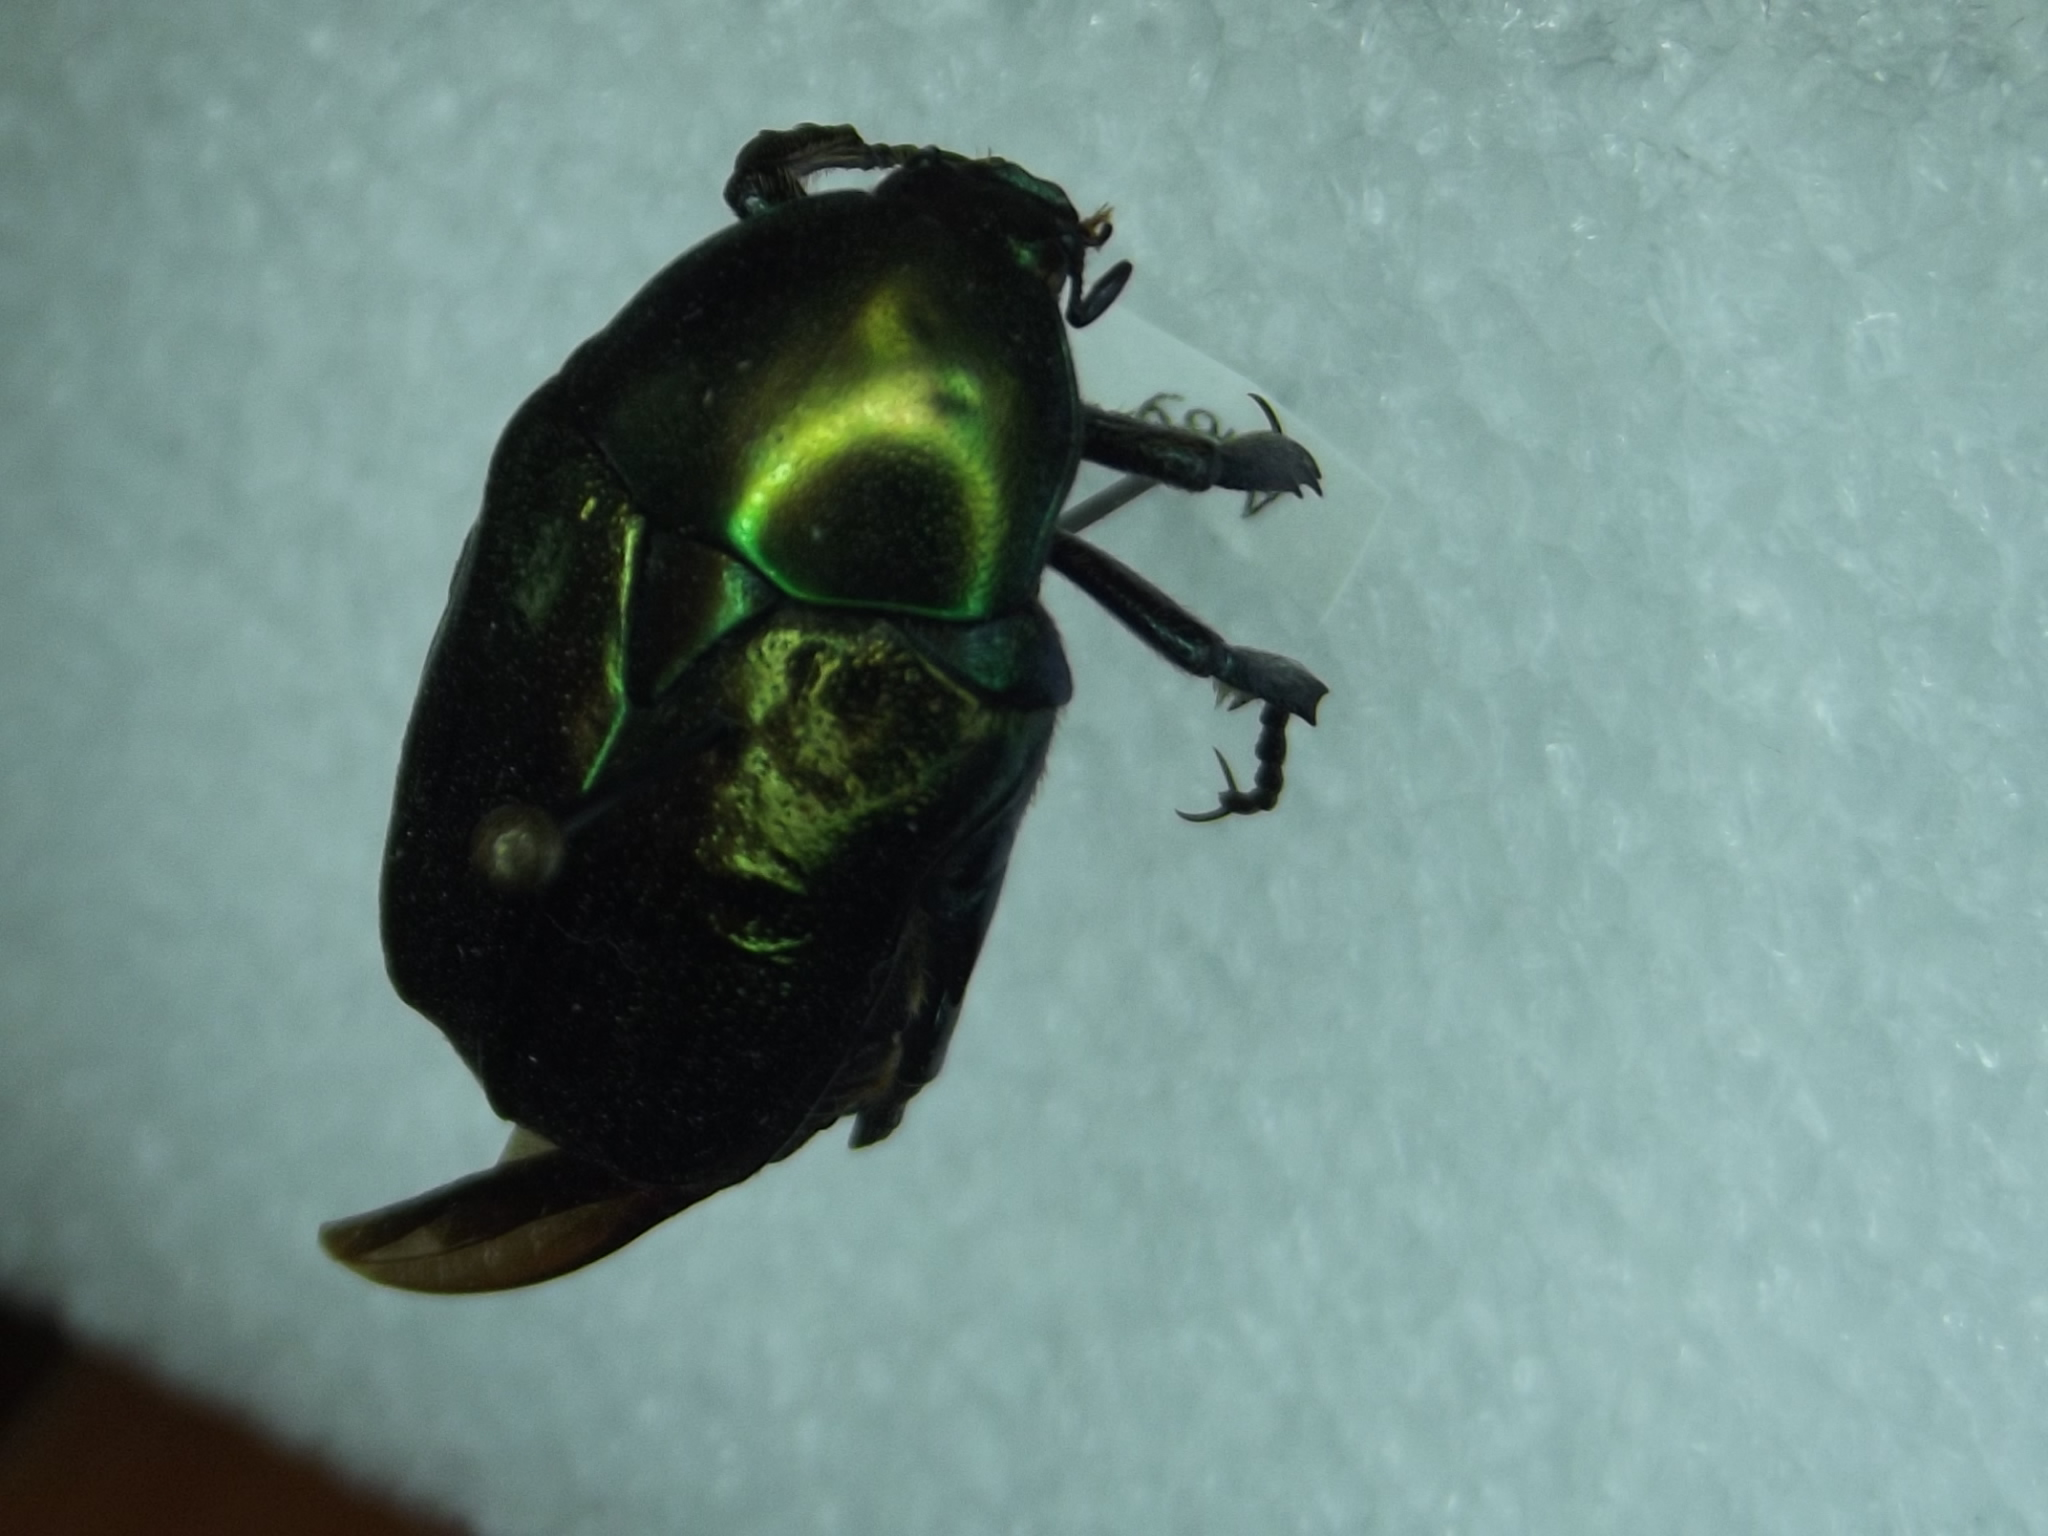Protaetia_angustata_angustata: (300, 90, 1358, 1368)
